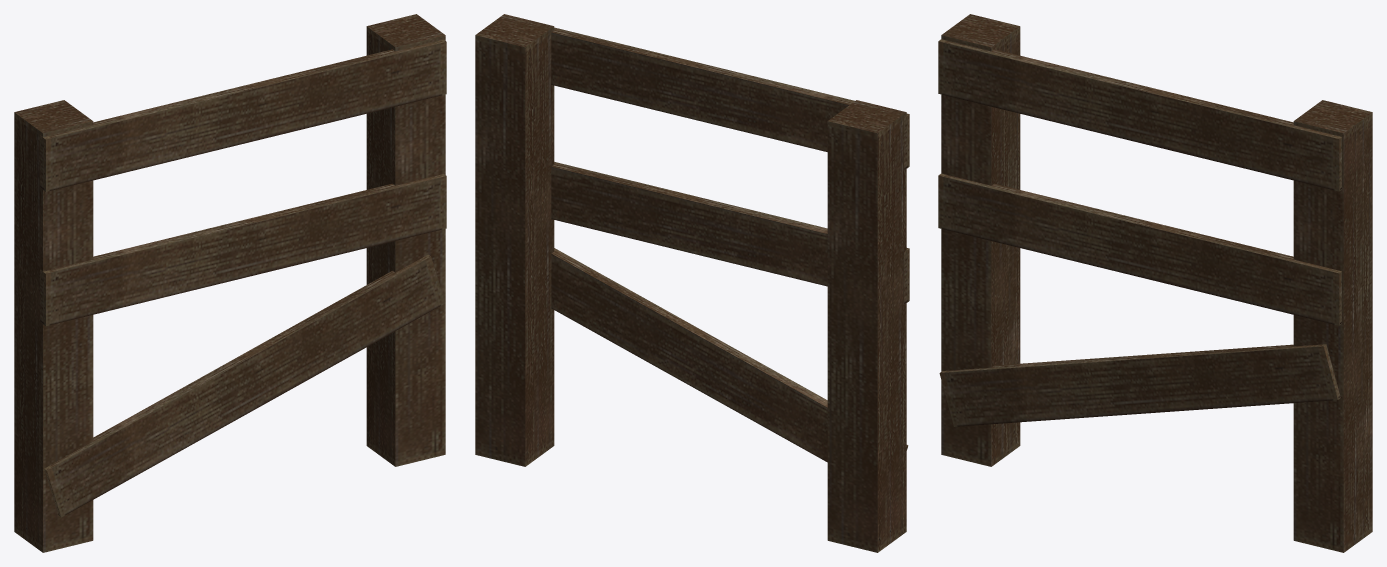
File: SM_TI_Wood_1_Panel_1.fbx
The picture shows the model from 3 angles, left to right: view 1: azimuth 30°, elevation 25°; view 2: azimuth 150°, elevation 25°; view 3: azimuth 330°, elevation 25°; orthographic projection.
Visible parts, largest first — view 1: SM_TI_Wood_1_Panel_1; view 2: SM_TI_Wood_1_Panel_1; view 3: SM_TI_Wood_1_Panel_1.
Part boxes in pixels (x1,y1,x2,y2): SM_TI_Wood_1_Panel_1: (14,14,446,552); SM_TI_Wood_1_Panel_1: (475,14,909,552); SM_TI_Wood_1_Panel_1: (938,14,1372,552).
Bounding box in the file's own units: 4.02 × 0.5499 × 4.
